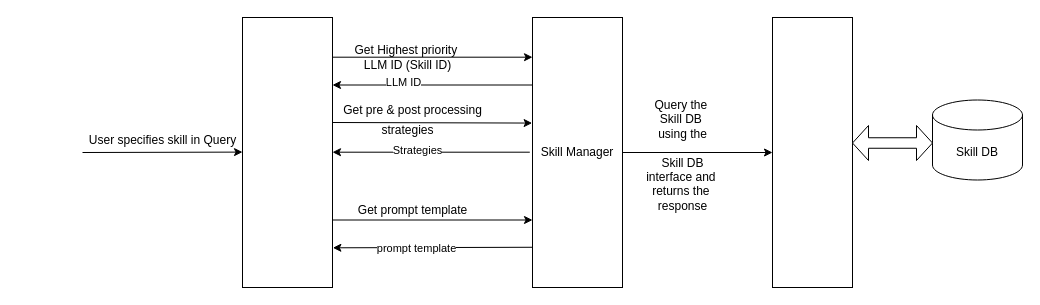
Image size: 1040x305. Some labels were removed from this diagram. The shapes that lost their labels are listed below. From the top down, each one's centre as x and y in pixels, then its label:
At point 287,152: "Action Manager".
At point 812,152: "Skill DB Interface".
